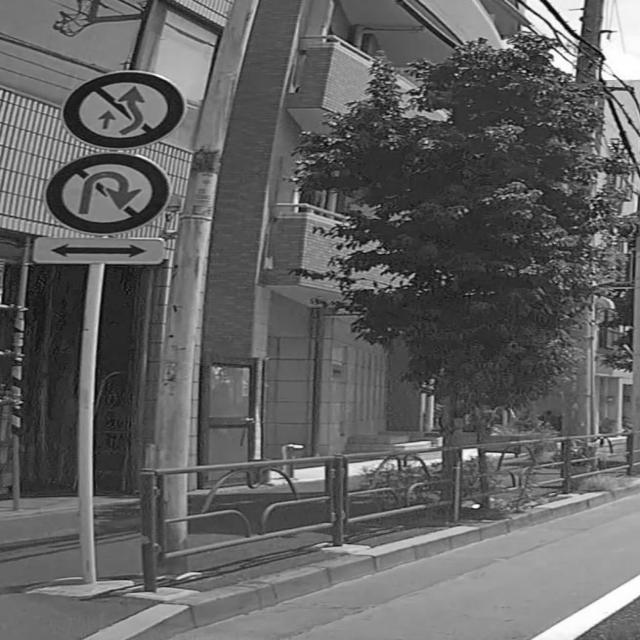maple: (281, 30, 640, 512)
